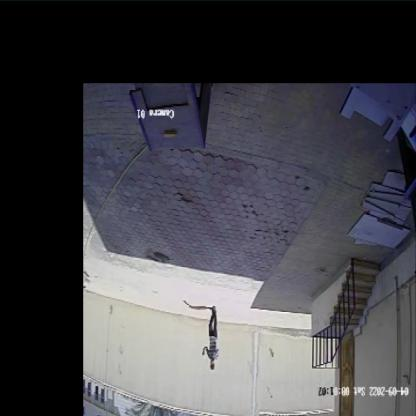handgun: (197, 347, 208, 362)
